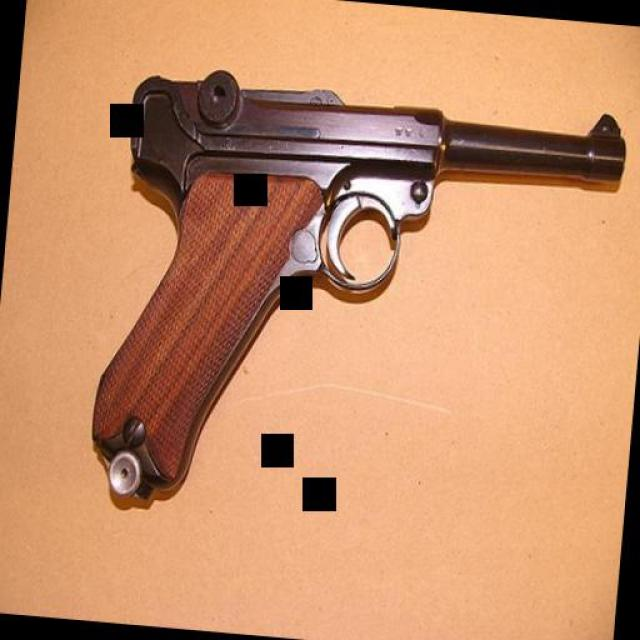gun: (81, 59, 630, 536)
